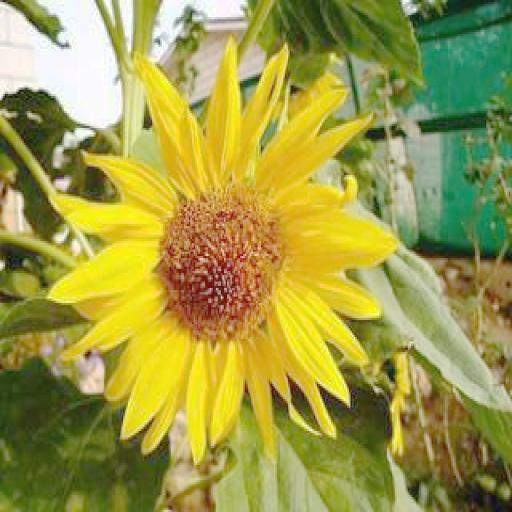sunflower: (51, 40, 395, 461)
